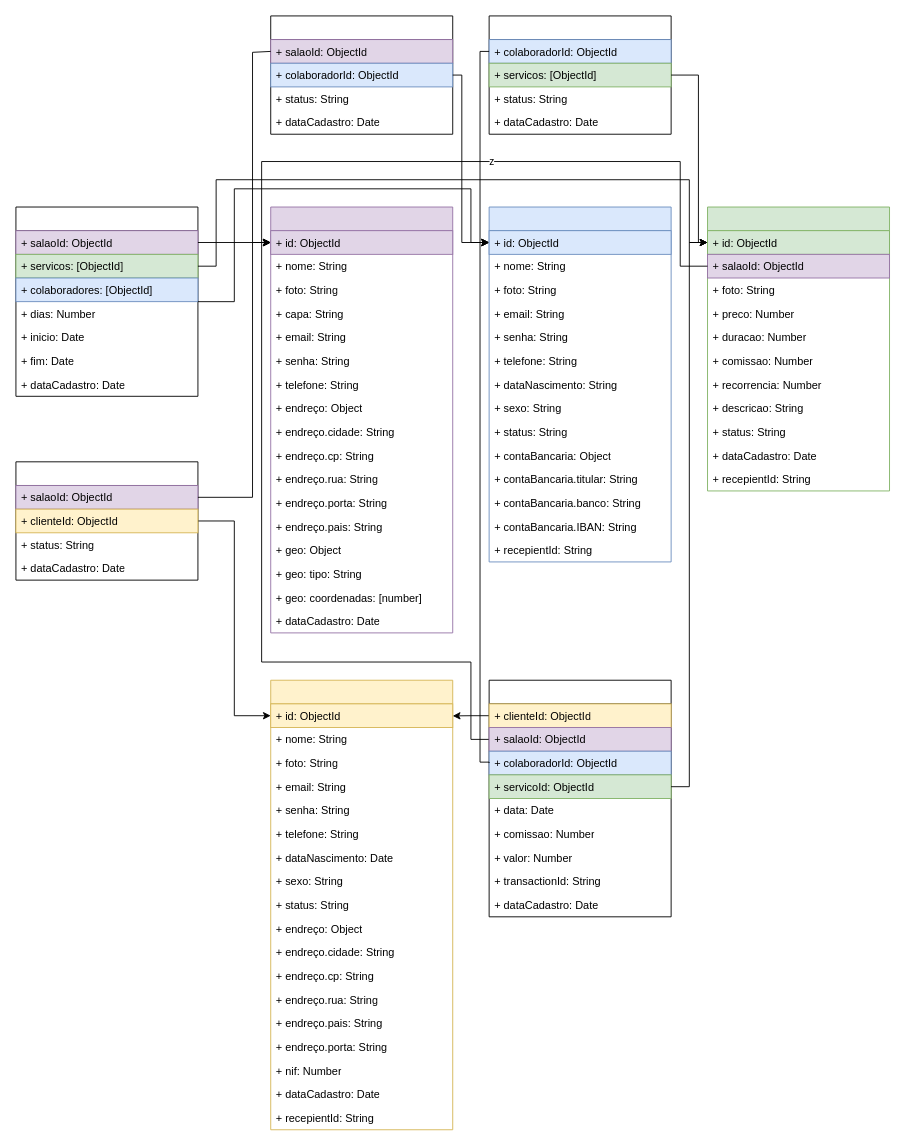
The diagram is 905 pixels wide and 1148 high, and some of its shapes have lost their labels. The shapes that lost their labels are listed below. From the top down, each one's box as (x1, y1, x2, y2) in pixels, then its label:
(270, 15, 453, 134): SALAO_COLABORADOR
(488, 15, 671, 134): COLABORADOR_SERVICO
(15, 206, 198, 396): HORARIO
(707, 206, 890, 491): SERVICO
(488, 206, 671, 562): COLABORADOR
(270, 206, 453, 633): SALAO
(15, 461, 198, 580): SALAO_CLIENTE
(488, 679, 671, 917): AGENDAMENTO
(270, 679, 453, 1130): CLIENTE
